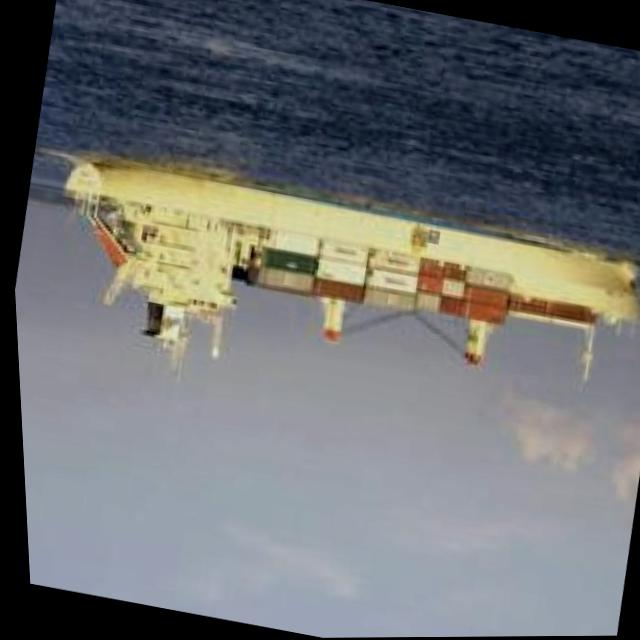ship2: (63, 154, 640, 378)
